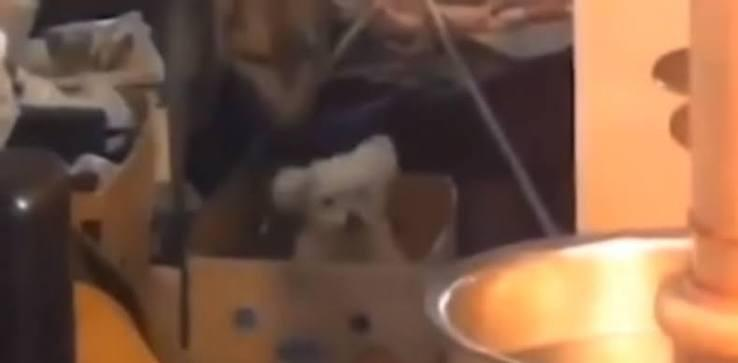puppy-dog: (268, 133, 420, 362)
